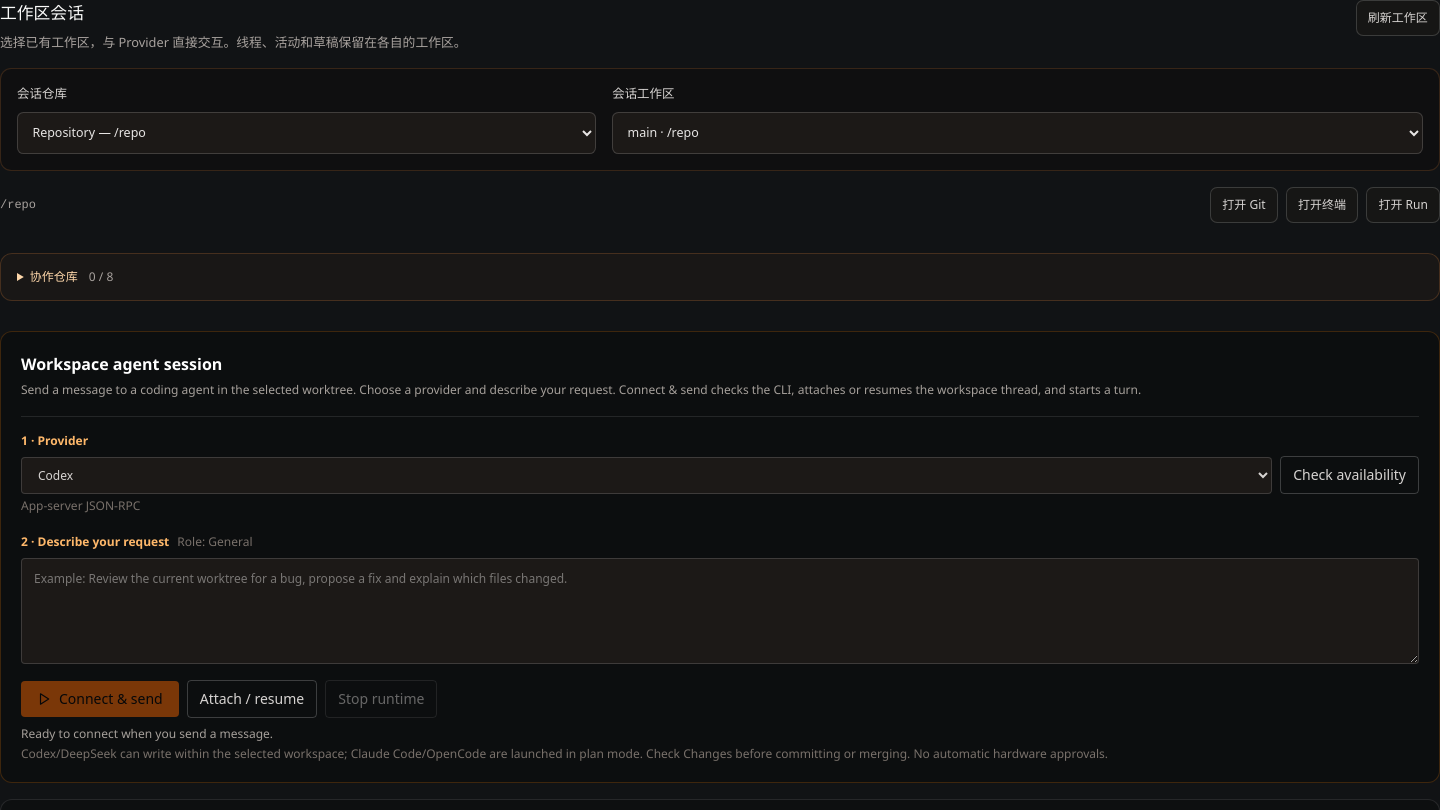
Scenario: Agents Hub workspace sessions › revokes a confirmed panel when its launch preflight cannot read the repository
Type "Retain through failure" into the text box named "Agent message".
click(720, 610); type("Retain through failure")  # box x1=21 y1=558 x2=1419 y2=664
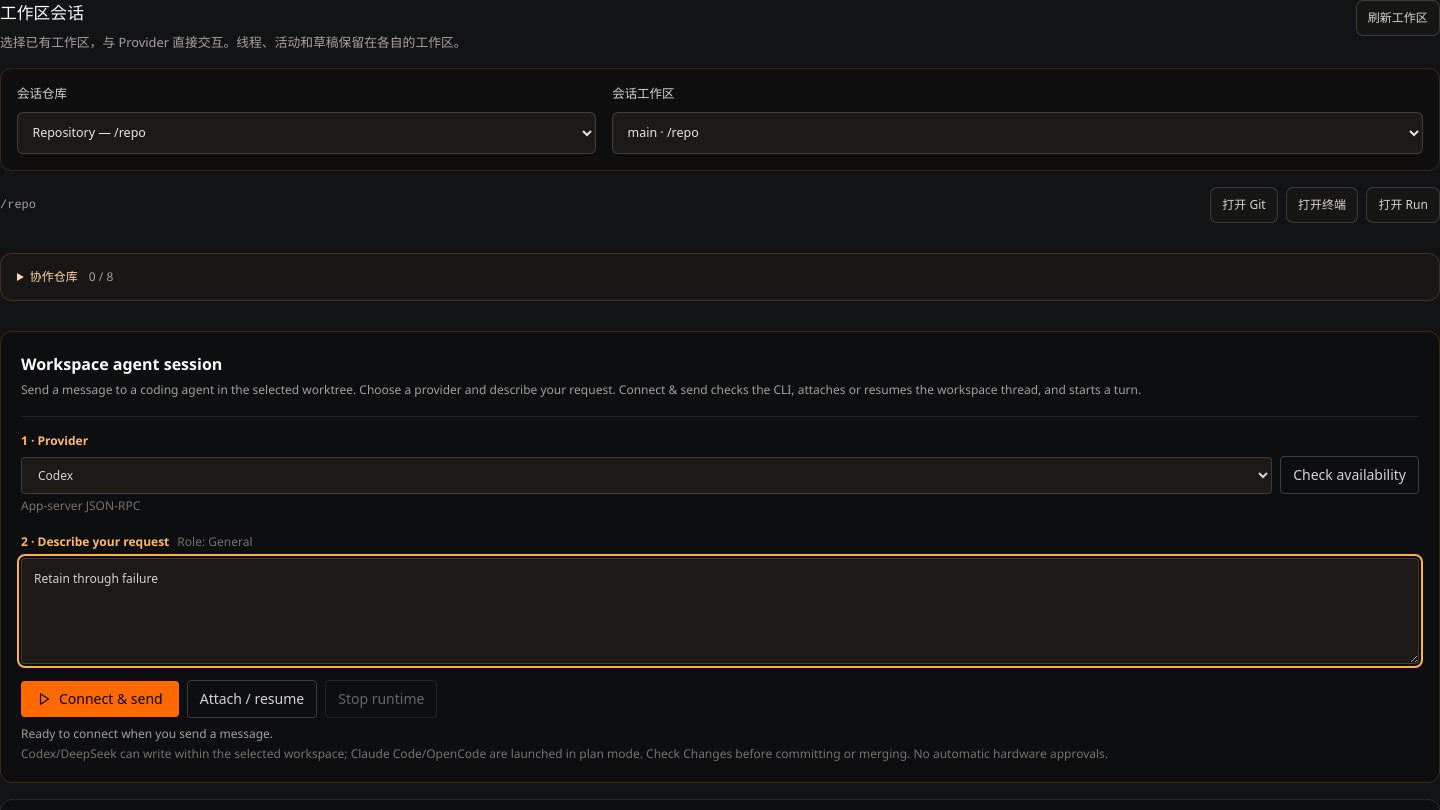
Click the button "Connect & send".
click(100, 698)  # box x1=21 y1=680 x2=179 y2=716
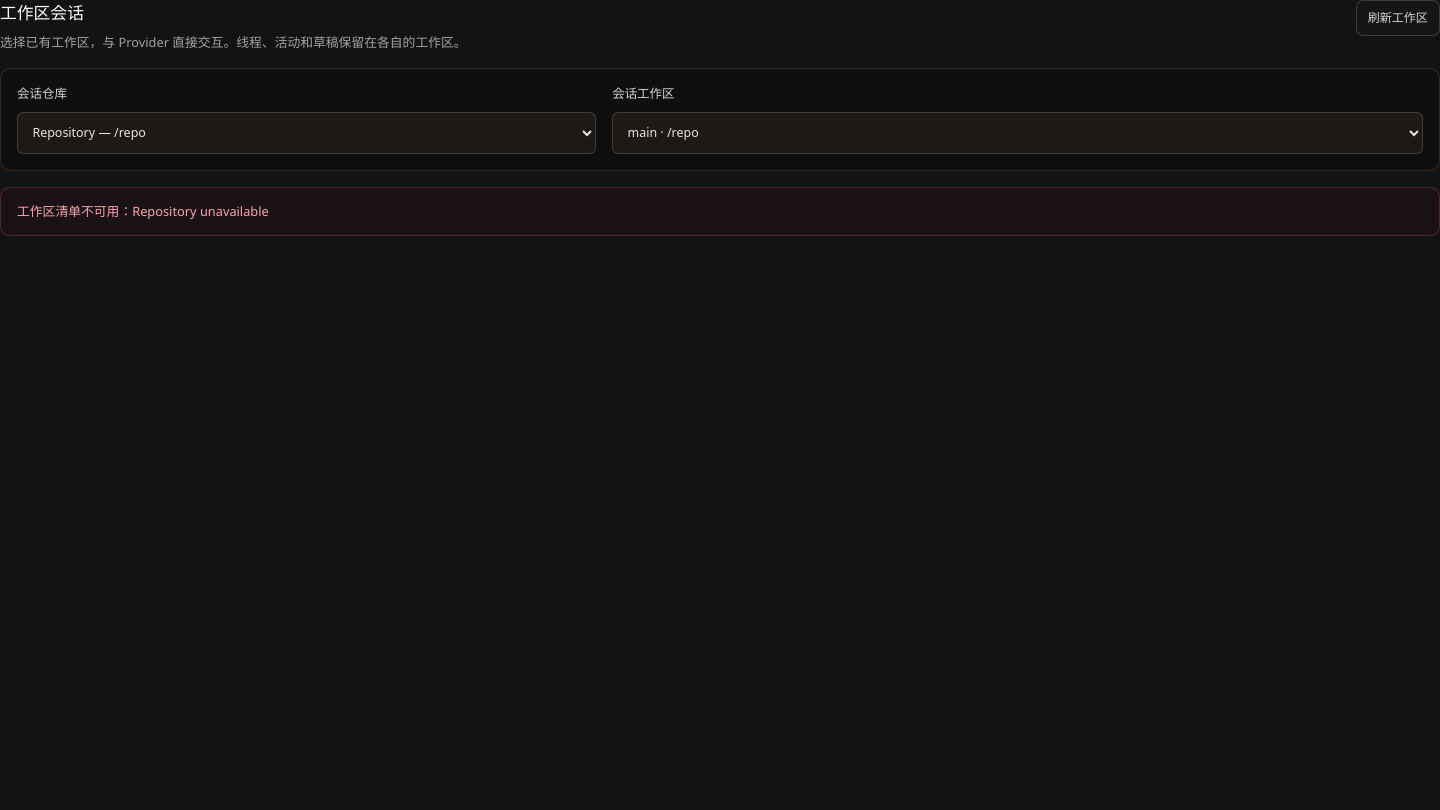
Expected: the message shows "Repository unavailable", x1=17 y1=202 x2=269 y2=220
